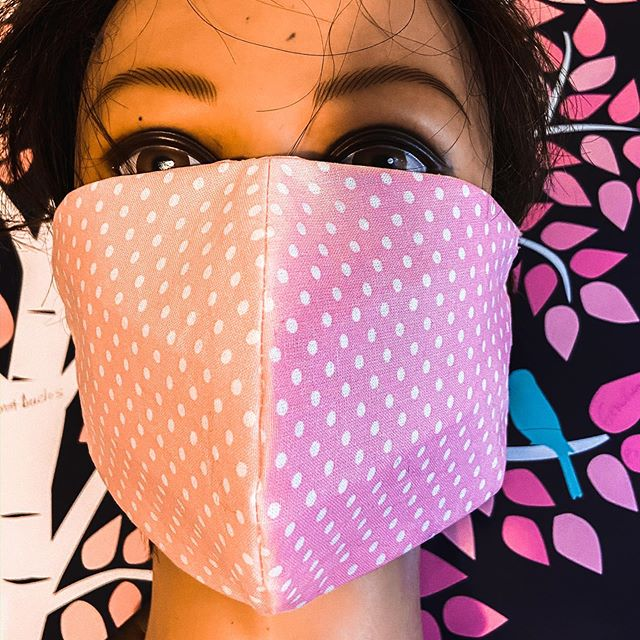homemade: (37, 181, 532, 598)
